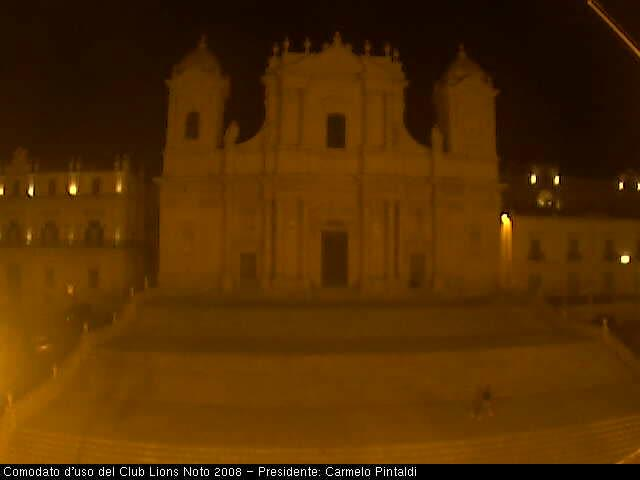person: (474, 375, 487, 416), (481, 383, 492, 418), (407, 277, 423, 294)
